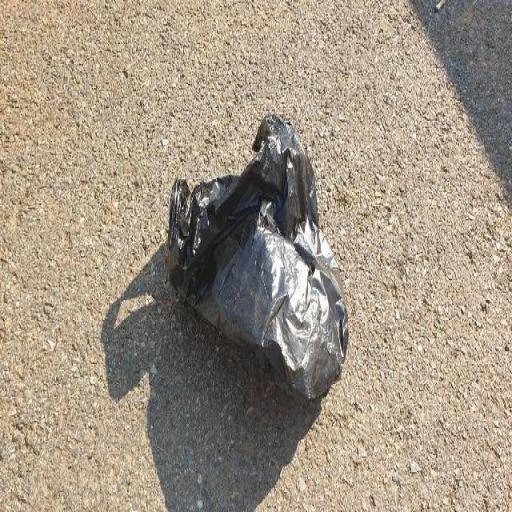plastic-bag: (165, 105, 351, 407)
